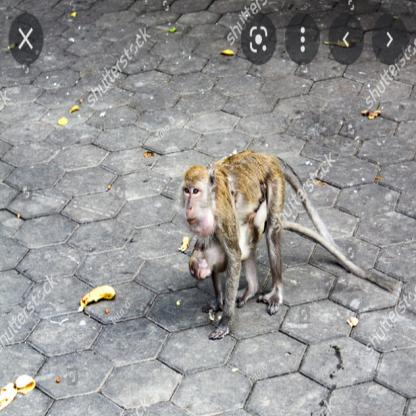monkey: (178, 148, 320, 341)
